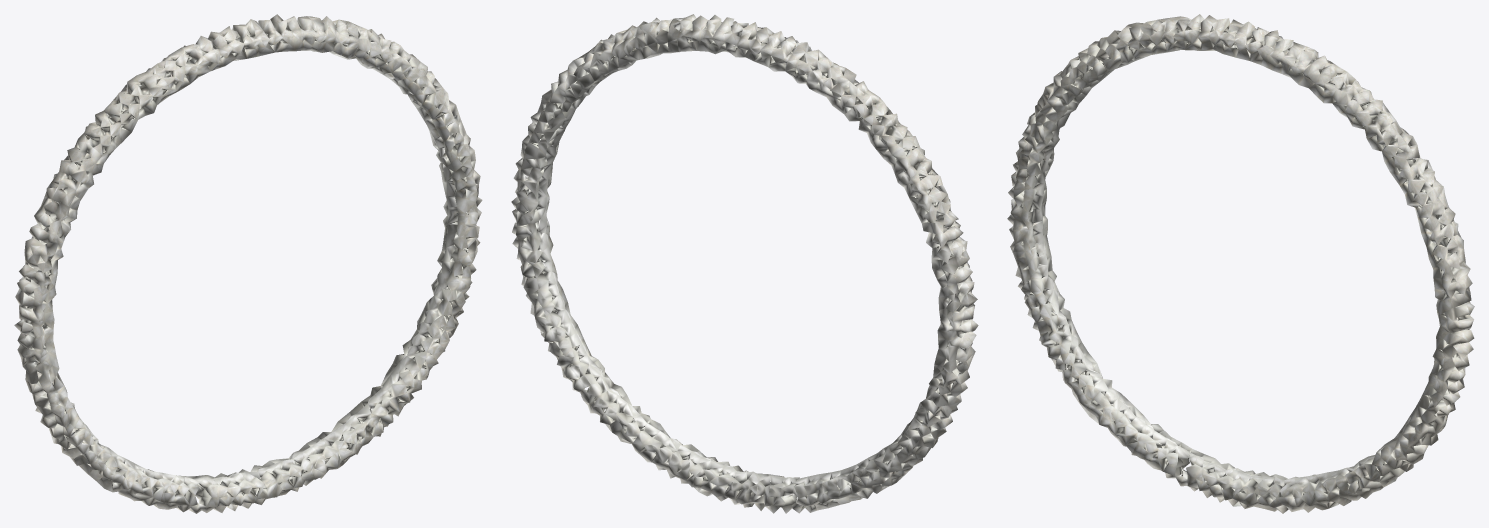
Rendered from ring_pearl_beaded_game.glb.
3 views of the same model, side by side, from view 1: azimuth 30°, elevation 25°; view 2: azimuth 150°, elevation 25°; view 3: azimuth 330°, elevation 25° (orthographic).
Parts seen in each view (by area): view 1: Mesh_0; view 2: Mesh_0; view 3: Mesh_0.
Part boxes in pixels (bbox=[...]): Mesh_0: bbox=[14, 14, 482, 513]; Mesh_0: bbox=[511, 14, 978, 513]; Mesh_0: bbox=[1007, 14, 1474, 513].
Bounding box in the file's own units: 2.15 × 2.15 × 0.1751.
Materials: 1 (1 with a texture image).
